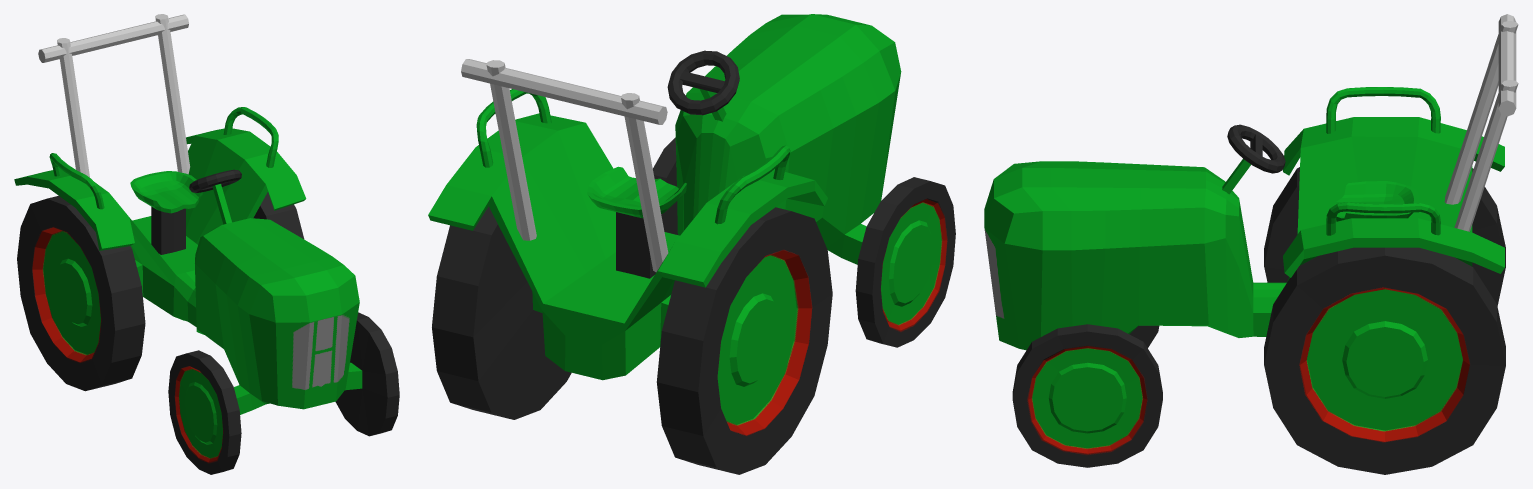
File: Holder.fbx
3 renders of one model, left to right at view 1: azimuth 30°, elevation 25°; view 2: azimuth 150°, elevation 25°; view 3: azimuth 270°, elevation 25°, orthographic. The views are drawn at different scales.
Visible parts, largest first — view 1: Holder, Bumper, Seet, Lehnen, SteeringWheel; view 2: Holder, Bumper, Seet, SteeringWheel, Lehnen; view 3: Holder, Bumper, Lehnen, Seet, SteeringWheel.
Boxes of the visible parts, x1,y1,x2,y2 form: Holder: (14,128,399,474); Bumper: (38,14,190,177); Seet: (130,171,202,254); Lehnen: (49,107,278,209); SteeringWheel: (189,169,241,224); Holder: (428,14,955,474); Bumper: (461,59,668,272); Seet: (587,166,686,278); SteeringWheel: (667,50,739,121); Lehnen: (476,89,790,224); Holder: (984,117,1505,474); Bumper: (1444,14,1518,231); Lehnen: (1326,87,1440,235); Seet: (1336,181,1419,221); SteeringWheel: (1222,124,1285,194).
Size of the model in its own units: 343 by 473 by 631.
1 material, 1 textured.
